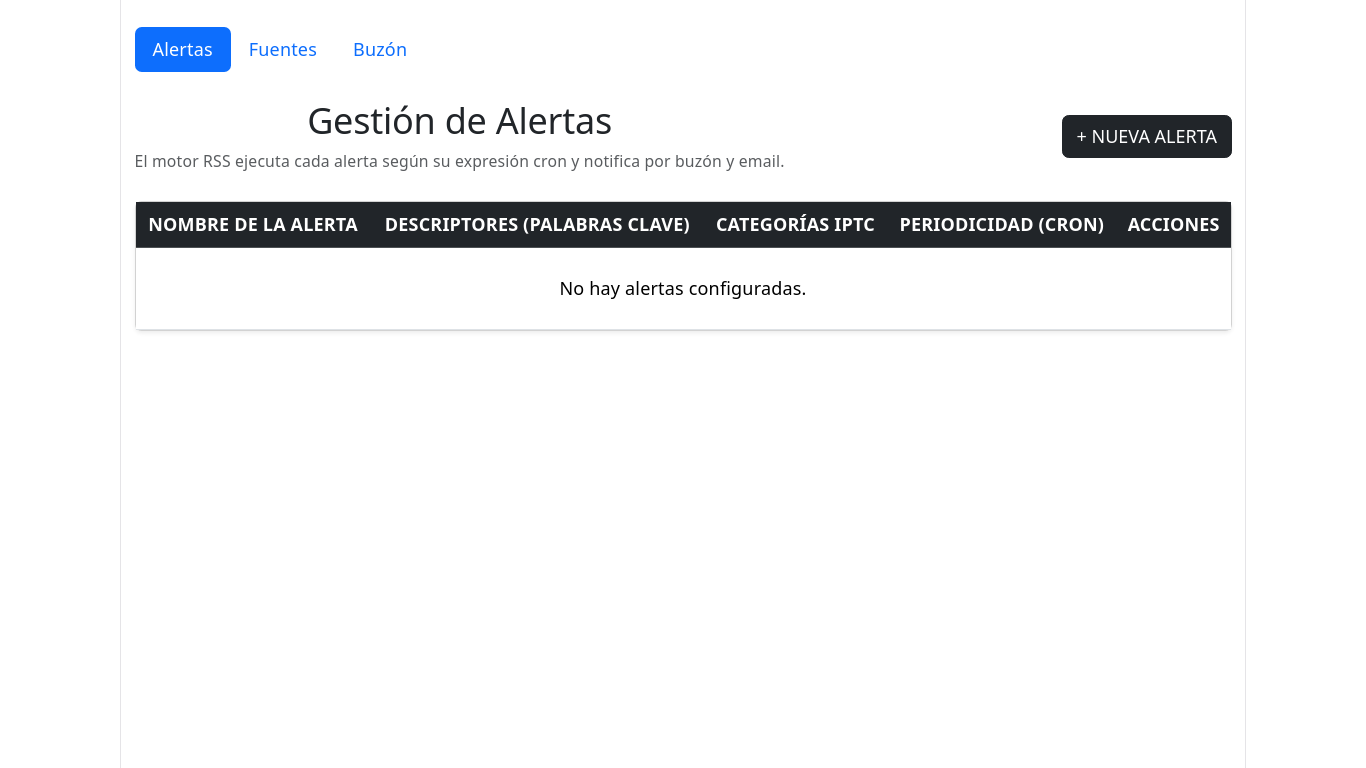
it: AlertsPage synonym generation › generates suggestions for each descriptor and appends selected synonym
Click the button "+ NUEVA ALERTA".
click(1147, 136)  # box 1062,115 -> 1232,158
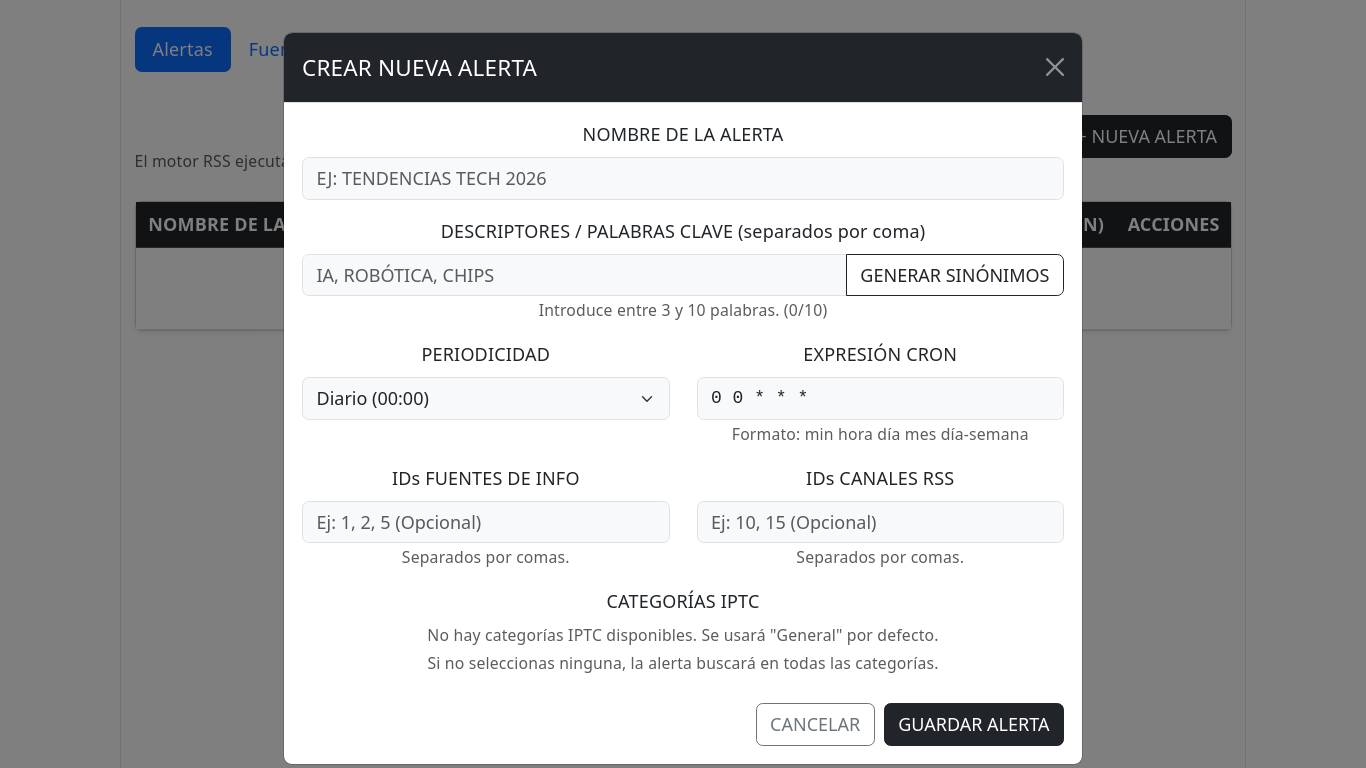
Expected: the heading "CREAR NUEVA ALERTA" is shown, 302,50 -> 537,84
Type "ia, coche" into the field with placeholder "IA, ROBÓTICA, CHIPS".
click(574, 275); type("ia, coche")  # box 302,254 -> 847,296
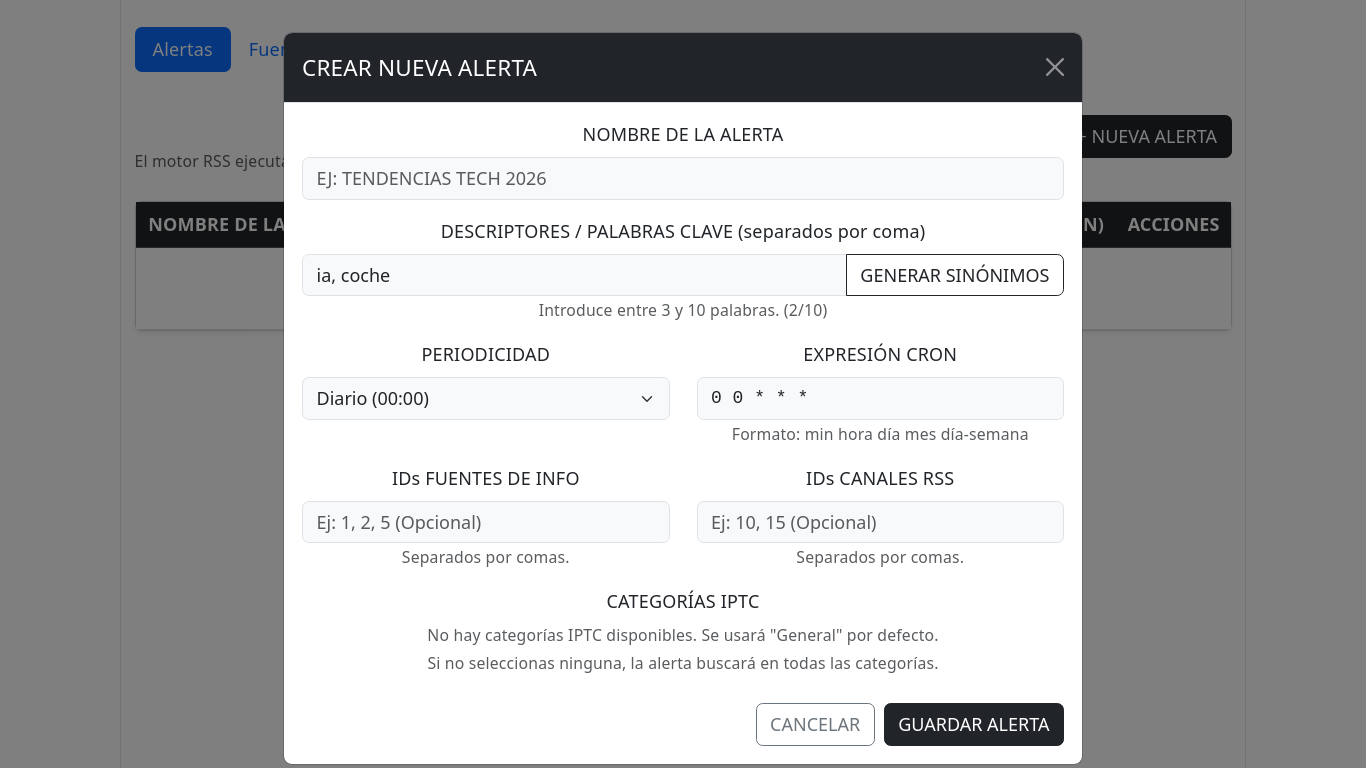
Click the button "GENERAR SINÓNIMOS".
click(955, 275)  # box 846,254 -> 1064,296
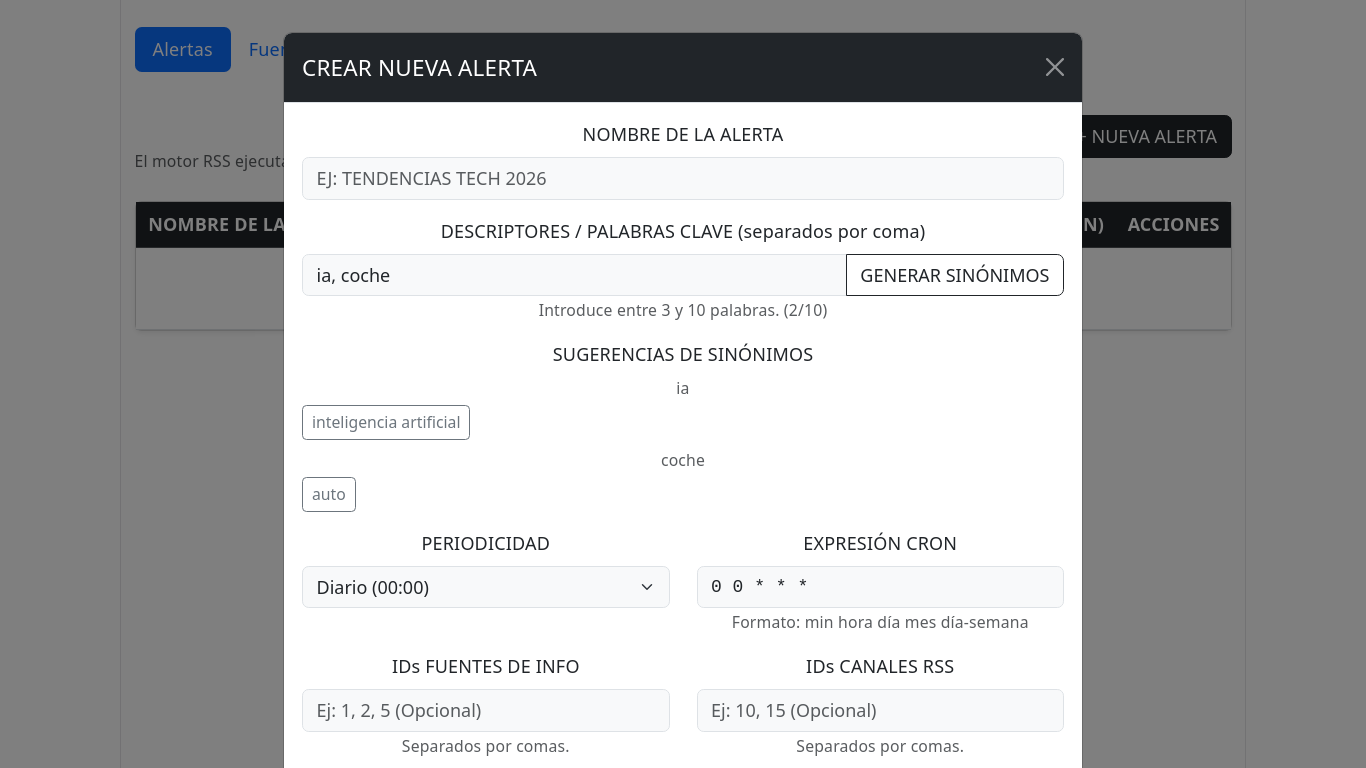
Click the button "auto".
click(329, 494)  # box 302,477 -> 356,512
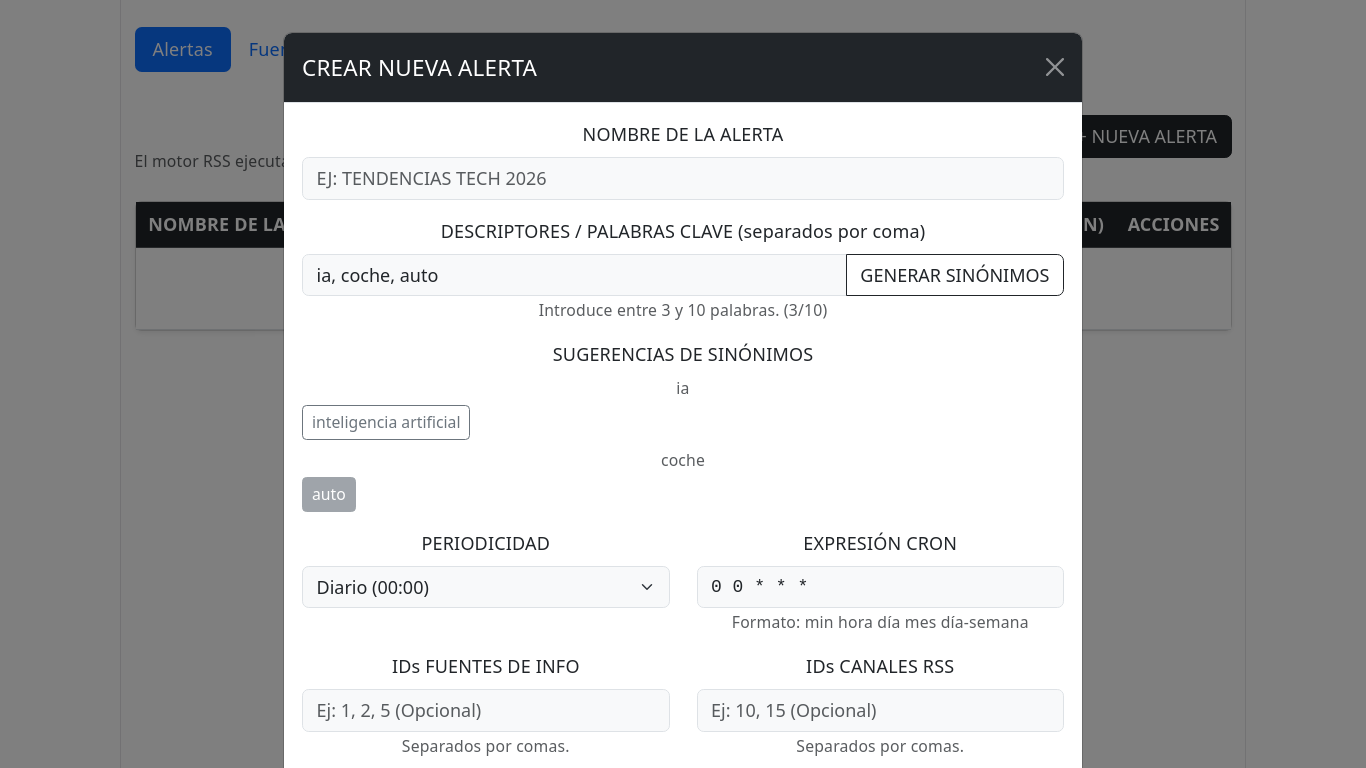
Expected: the 1st field with placeholder "IA, ROBÓTICA, CHIPS" holds "ia, coche, auto", 302,254 -> 847,296
